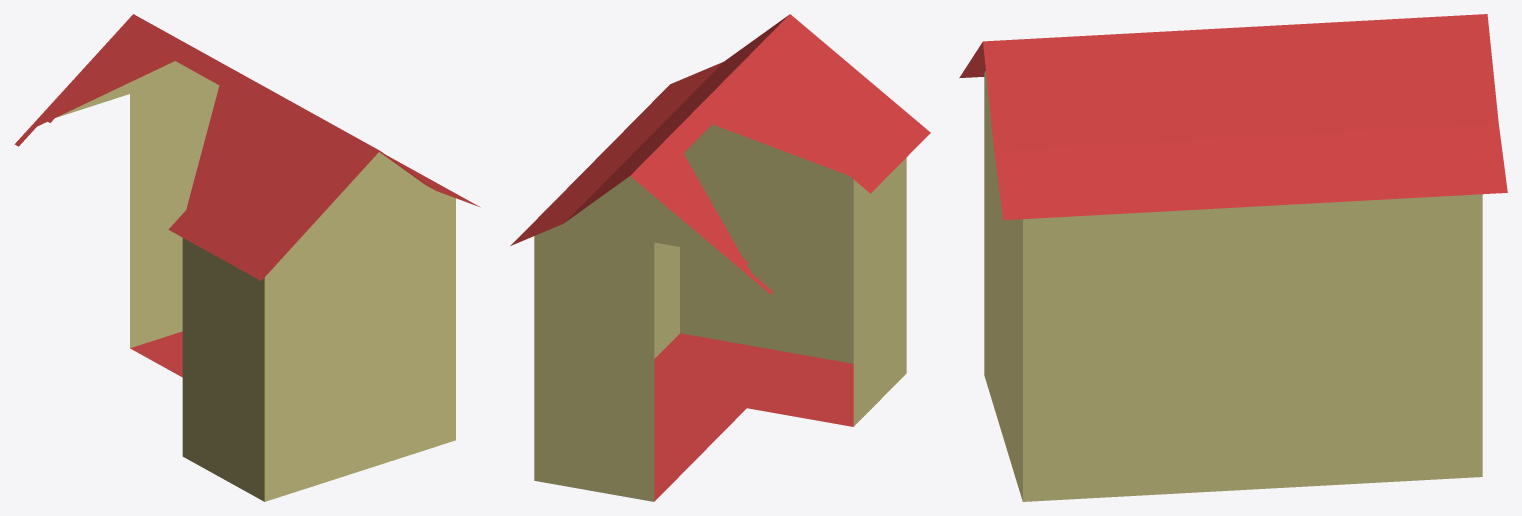
The picture shows the model from 3 angles, left to right: view 1: azimuth 30°, elevation 25°; view 2: azimuth 150°, elevation 25°; view 3: azimuth 270°, elevation 25°; orthographic projection. The views are drawn at different scales.
Bounding box in the file's own units: 13.51 × 18.16 × 14.77.
